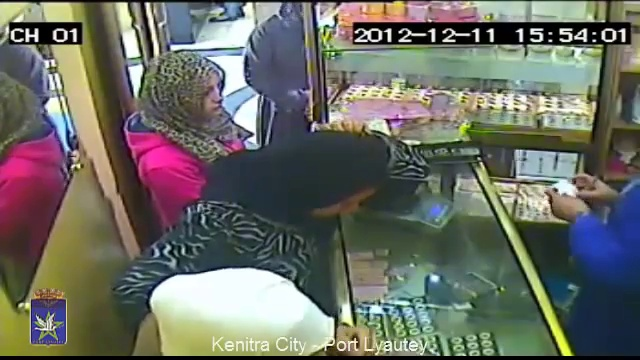face: (191, 71, 226, 117)
